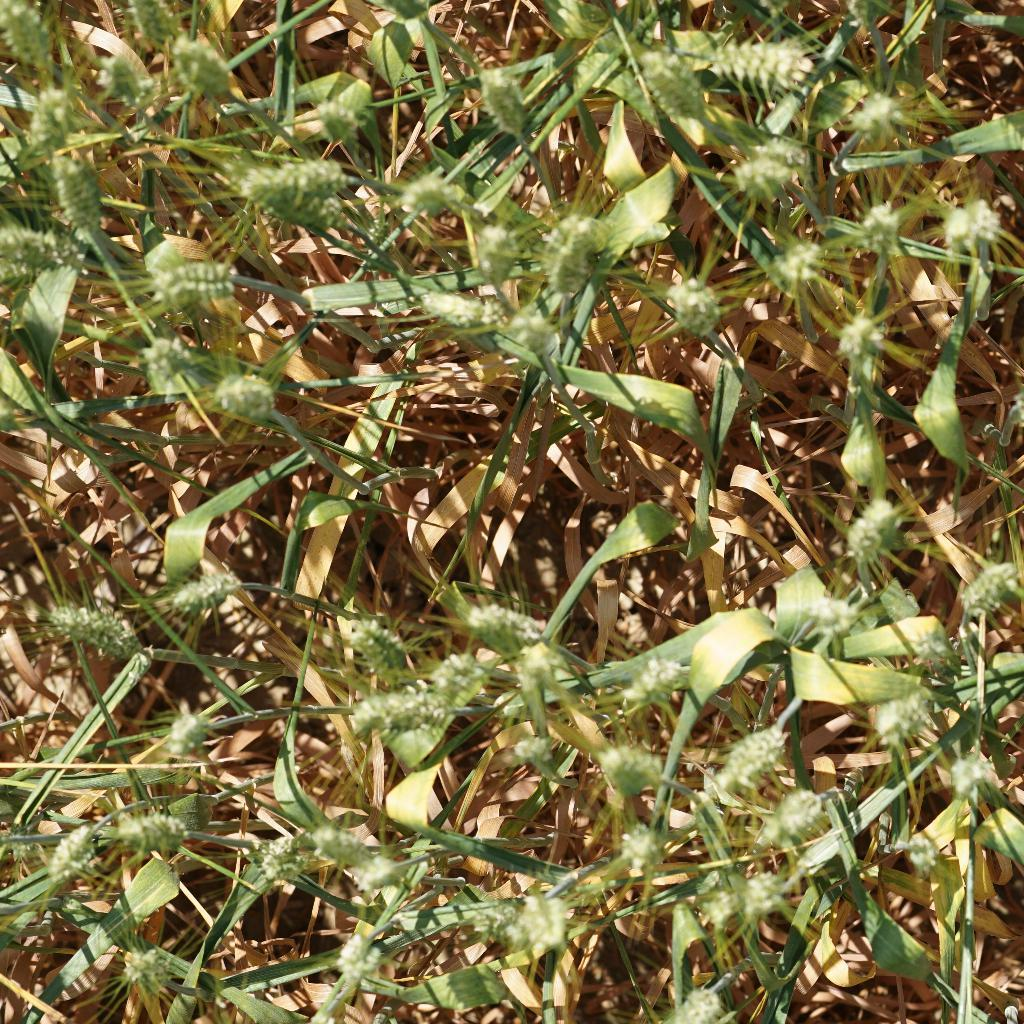0-0: (666, 18, 815, 89), (737, 780, 847, 863), (695, 712, 796, 798), (32, 135, 109, 245), (165, 32, 261, 115), (633, 43, 729, 124), (38, 595, 144, 664), (530, 210, 613, 298), (240, 169, 344, 234), (351, 684, 458, 744), (931, 191, 1024, 258), (328, 610, 421, 677), (452, 586, 541, 654), (141, 245, 243, 303), (473, 58, 535, 152), (0, 219, 90, 283), (834, 490, 908, 567), (250, 145, 357, 198), (414, 280, 504, 339), (662, 965, 751, 1024), (514, 878, 589, 948), (90, 32, 154, 114), (737, 133, 817, 198), (468, 220, 534, 298), (585, 735, 665, 798), (949, 552, 1024, 616), (0, 0, 63, 75), (613, 808, 683, 875), (862, 683, 940, 743), (26, 79, 90, 152), (201, 369, 287, 423), (658, 269, 728, 335), (848, 195, 919, 258), (407, 642, 485, 699), (156, 567, 244, 617), (253, 826, 316, 893), (489, 309, 564, 365), (104, 940, 179, 996), (123, 806, 210, 854), (391, 164, 464, 221), (791, 583, 869, 635), (770, 224, 829, 291), (847, 85, 915, 142), (627, 646, 690, 707), (302, 96, 380, 145), (43, 822, 111, 878), (941, 743, 1000, 807), (328, 923, 389, 983), (504, 630, 570, 683), (739, 861, 796, 921), (114, 0, 193, 43), (133, 329, 194, 377), (508, 724, 564, 773), (153, 706, 209, 754), (689, 882, 744, 927), (906, 627, 960, 672), (841, 313, 889, 362), (348, 855, 407, 894), (900, 829, 944, 879), (316, 829, 373, 864)
